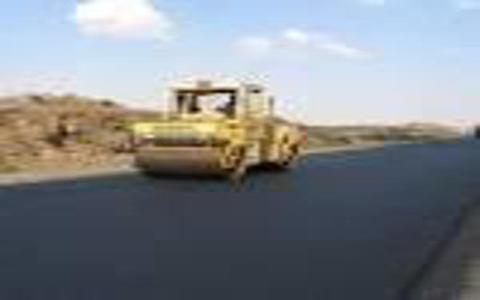Proper road: (30, 190, 406, 294)
